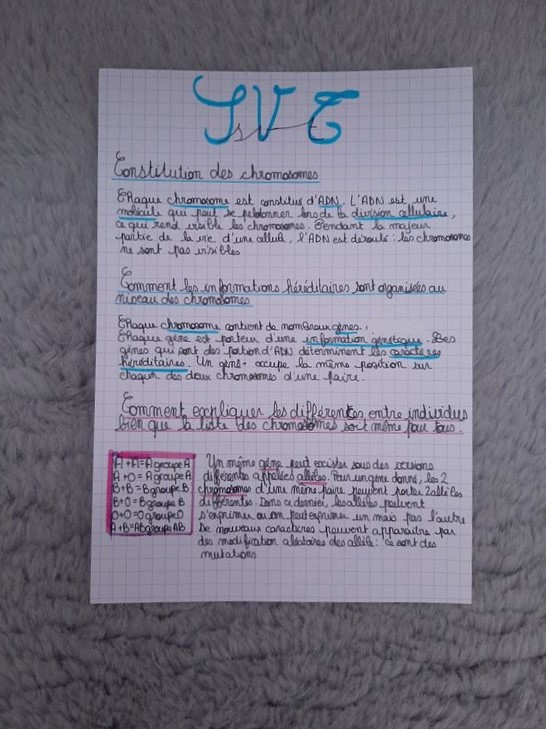page: (100, 70, 467, 600)
